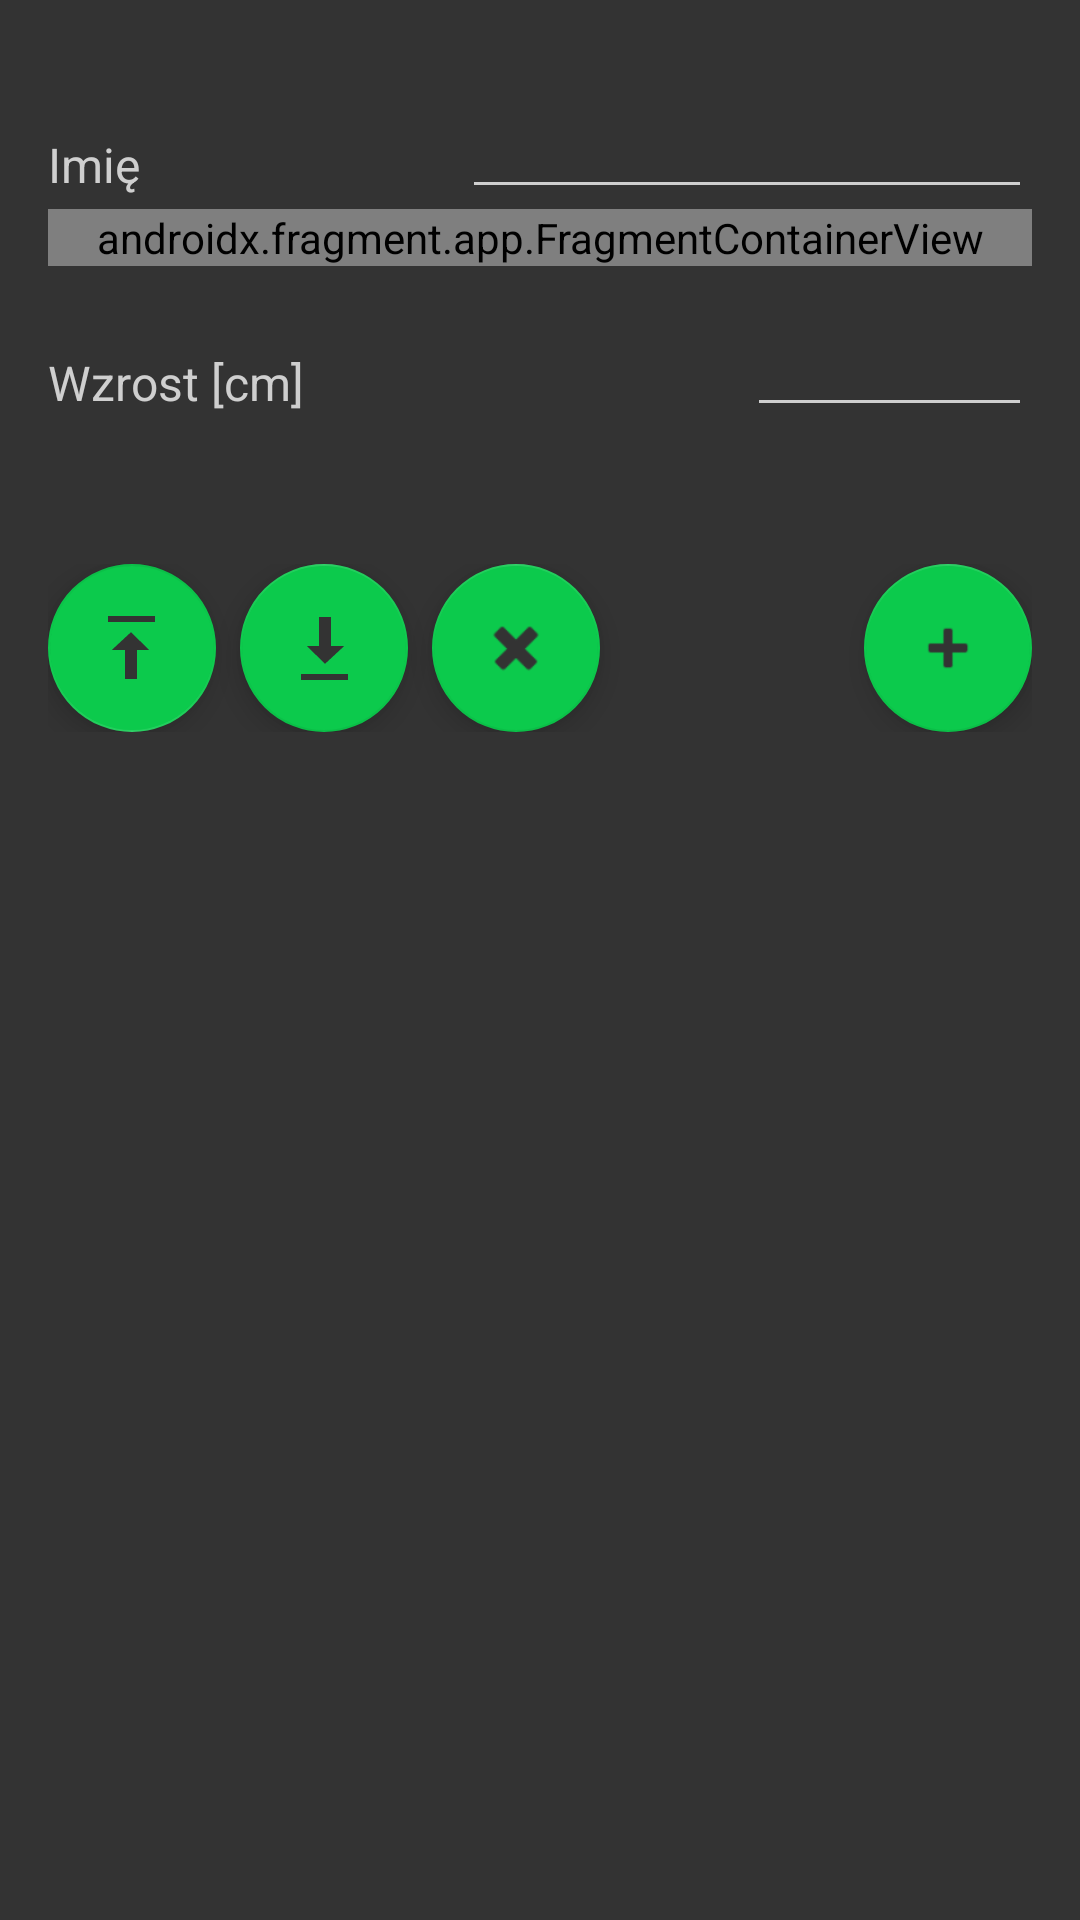

Where to tap for icons on this 1080*1920 app screen, as point (x, y):
add: point (948, 648)
delete: point (516, 648)
